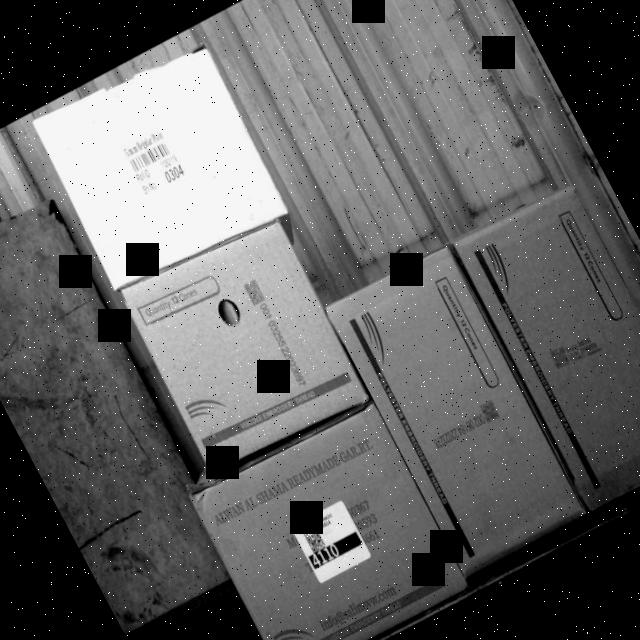box: (327, 243, 588, 576), (26, 34, 296, 298), (445, 175, 640, 521), (187, 402, 470, 640), (120, 220, 366, 480)
